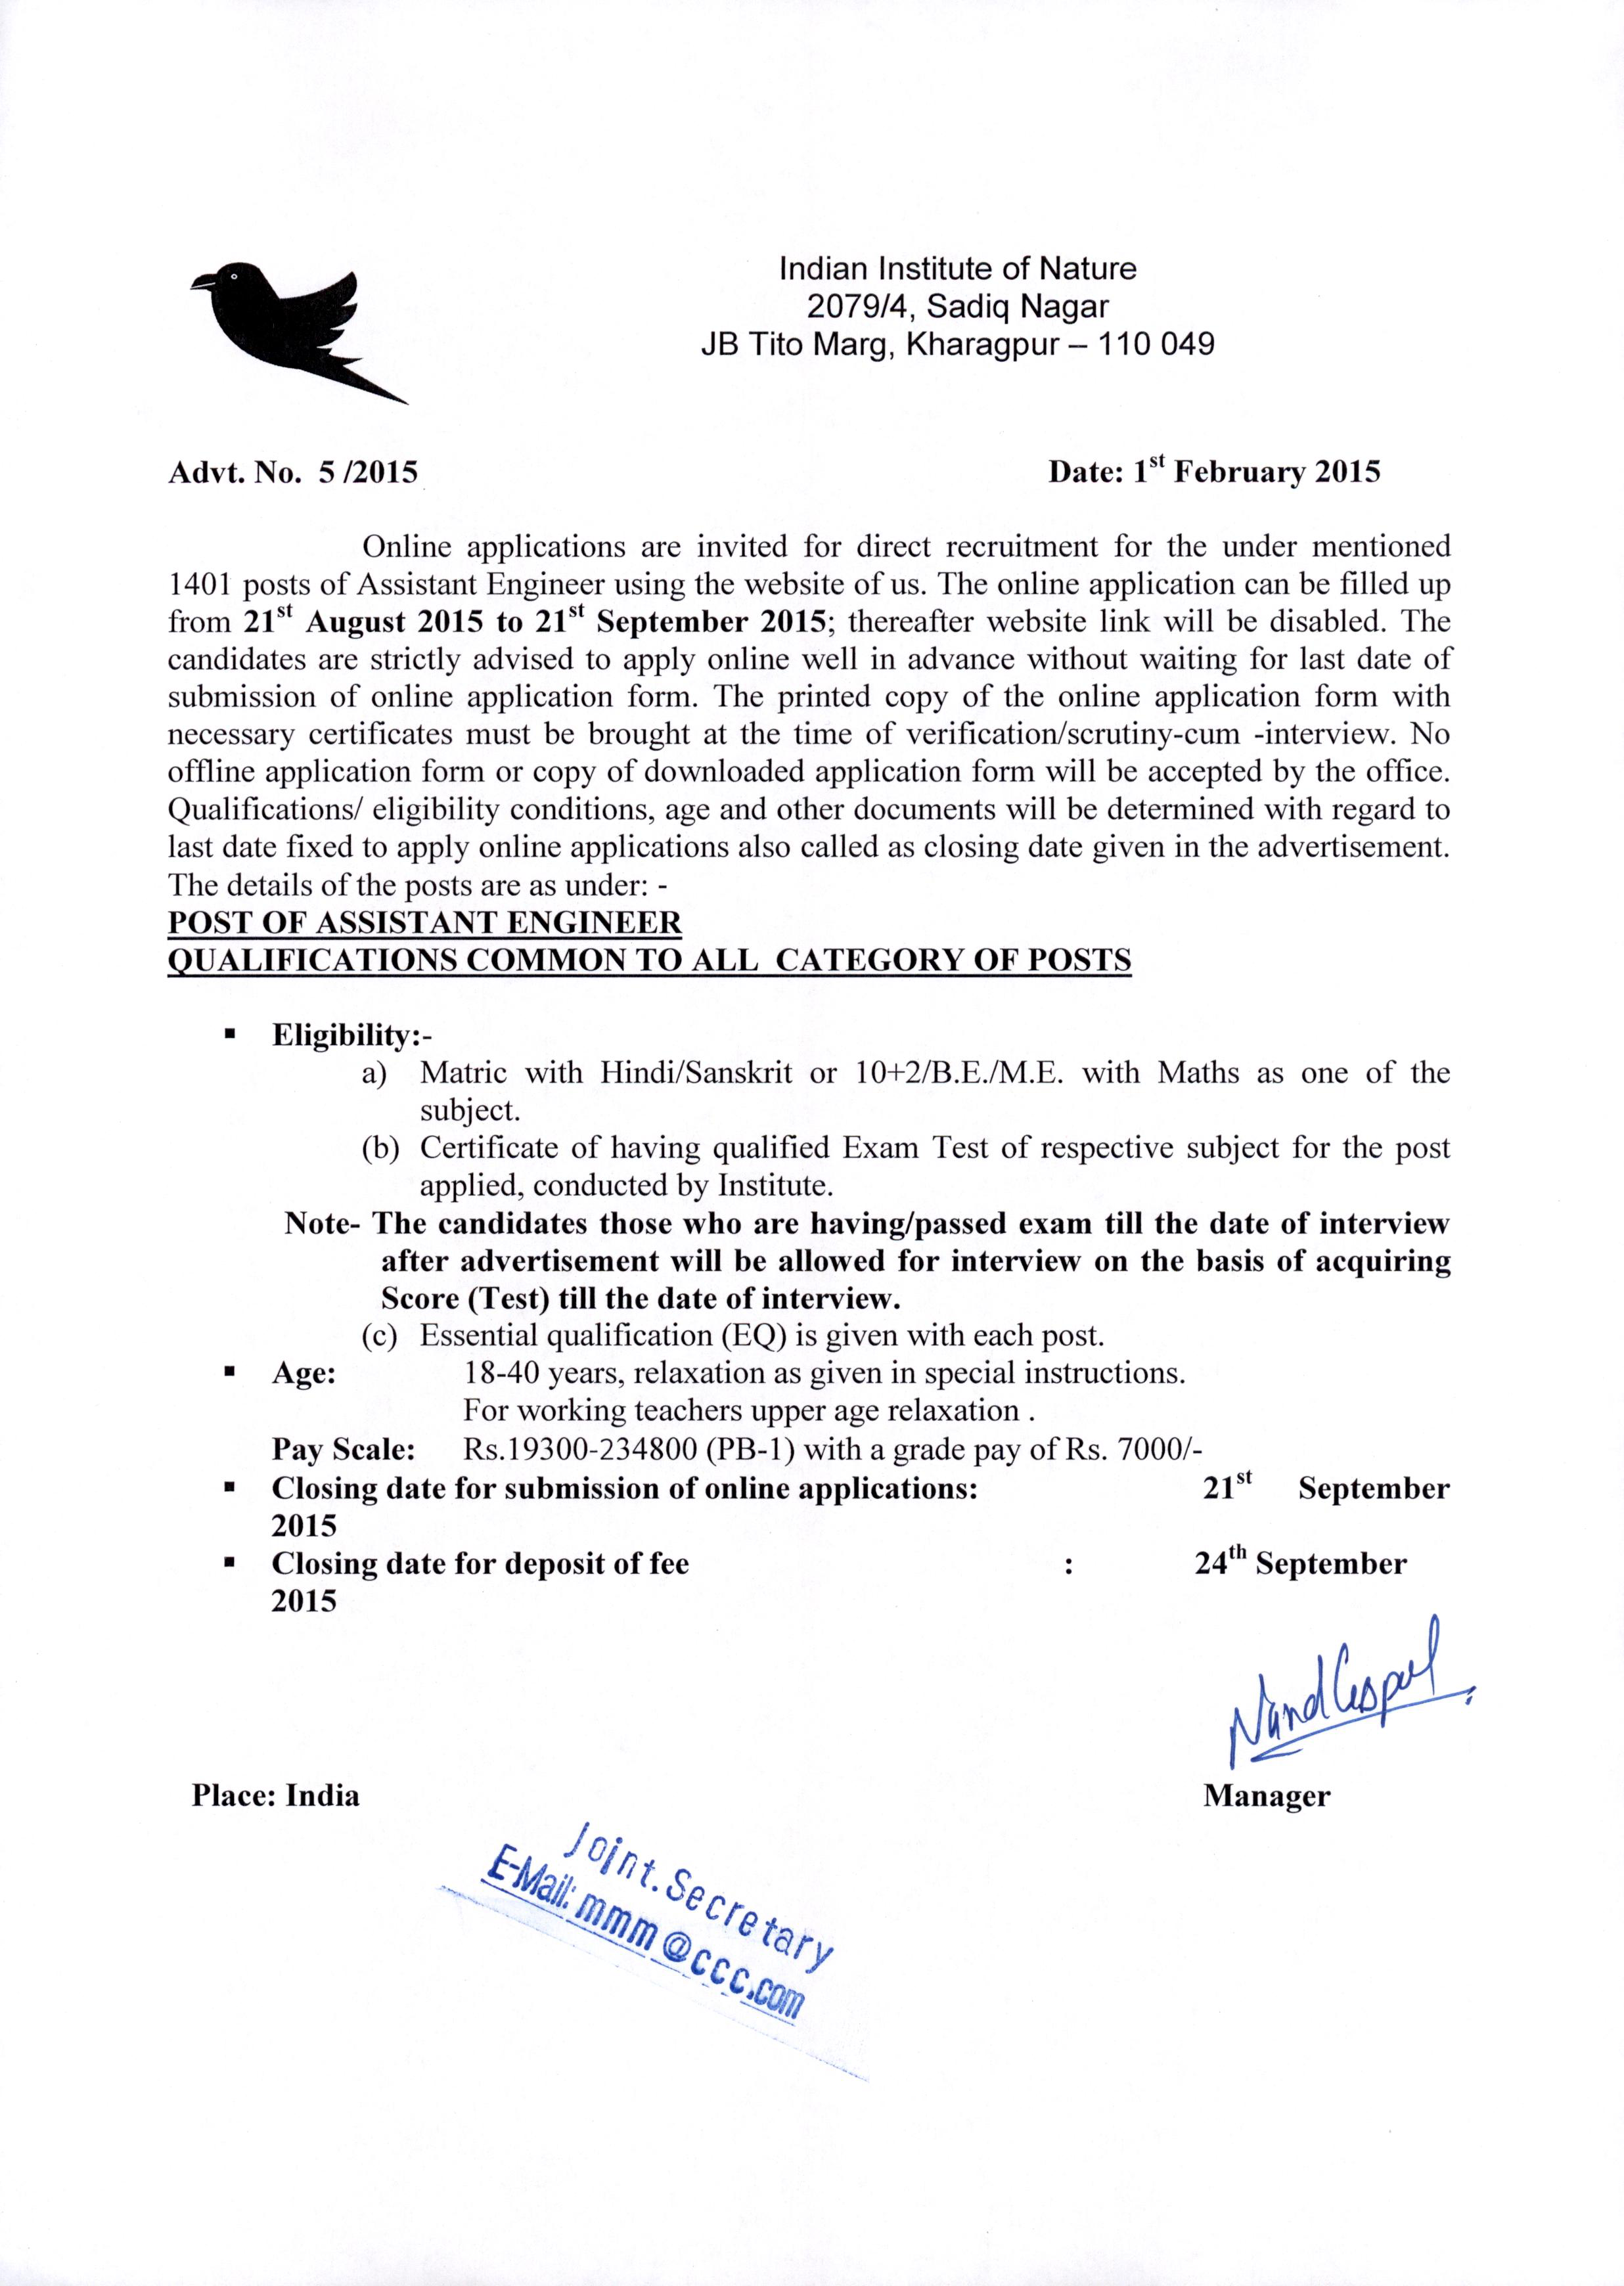Signature: (1218, 1606, 1490, 1782)
